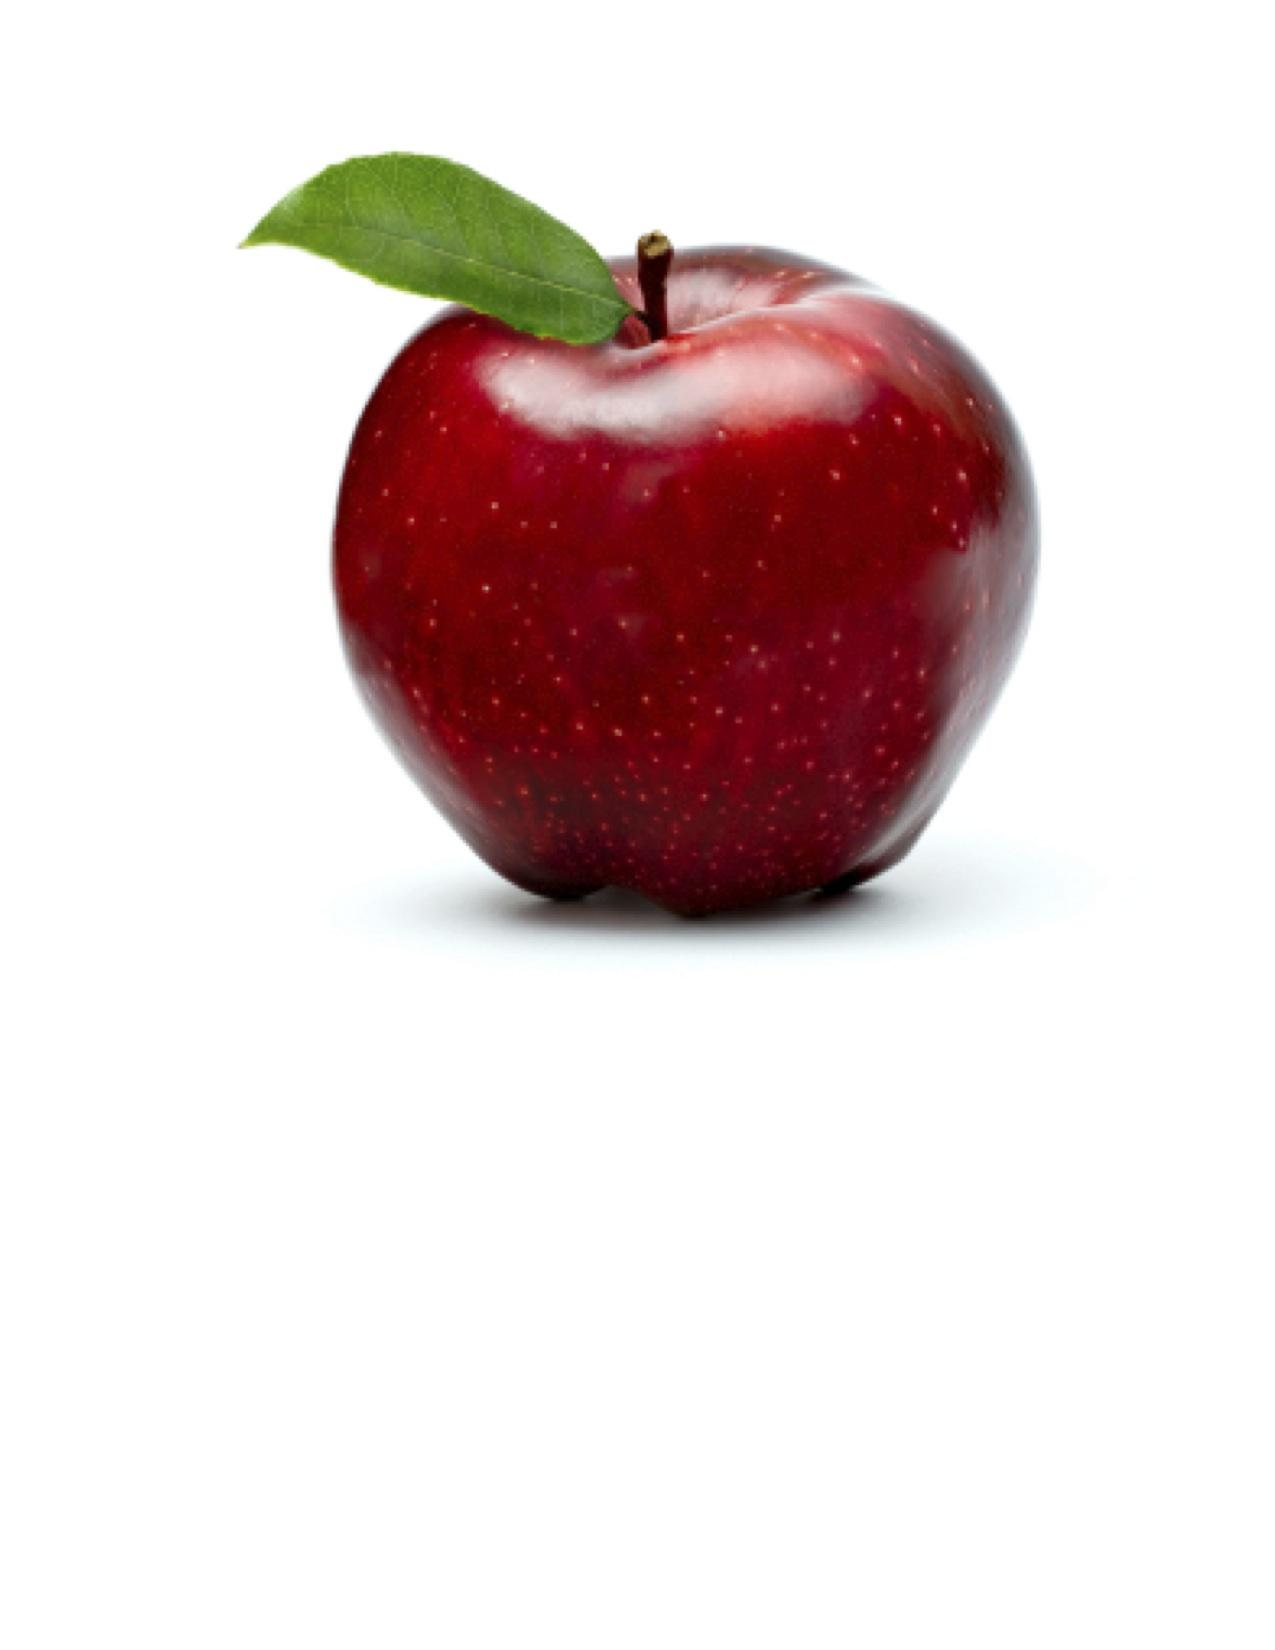Apple Fresh: (185, 110, 1120, 950)
